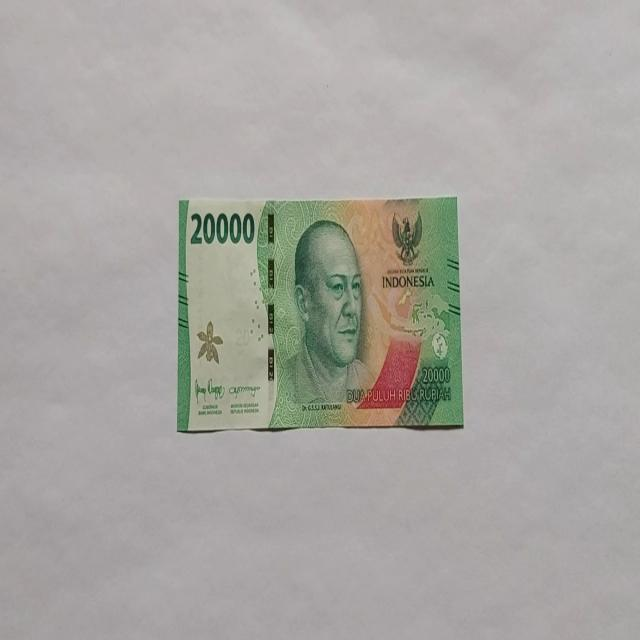dua puluh ribu rupiah: (176, 195, 464, 433)
